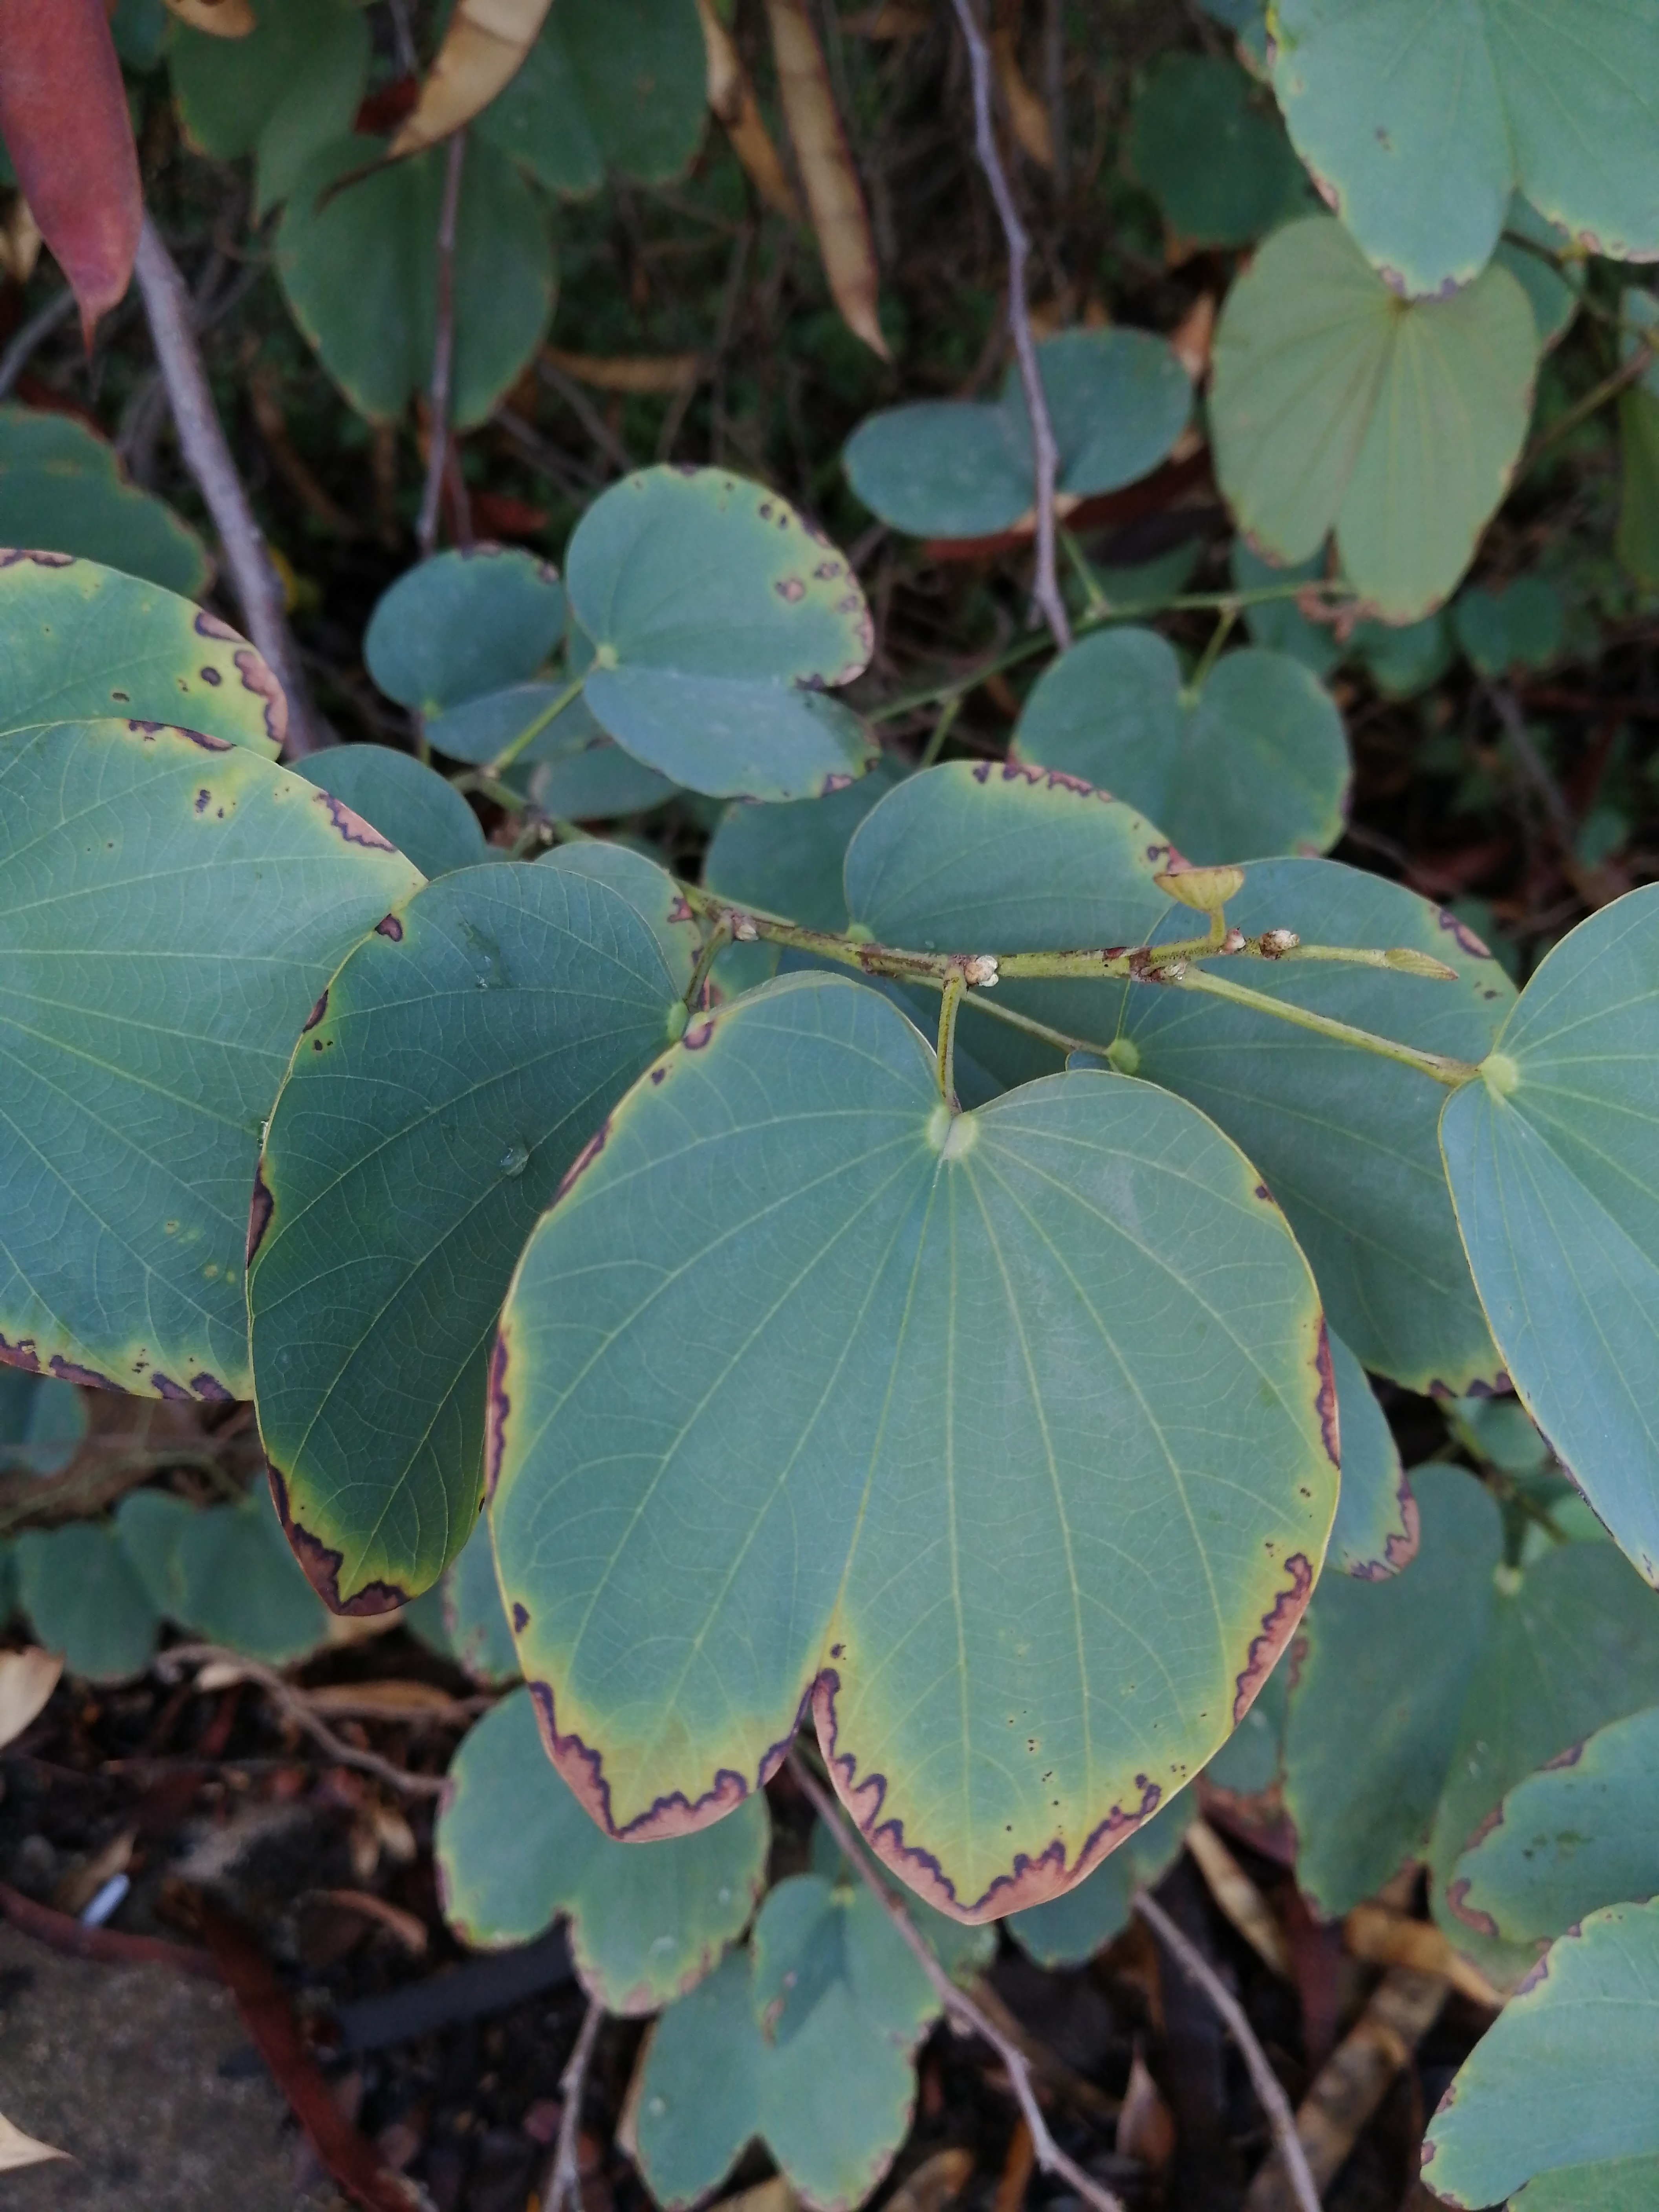nothealthy: (511, 981, 1399, 1918), (234, 867, 727, 1683), (0, 644, 443, 1392), (558, 404, 887, 831), (816, 737, 1218, 991)
